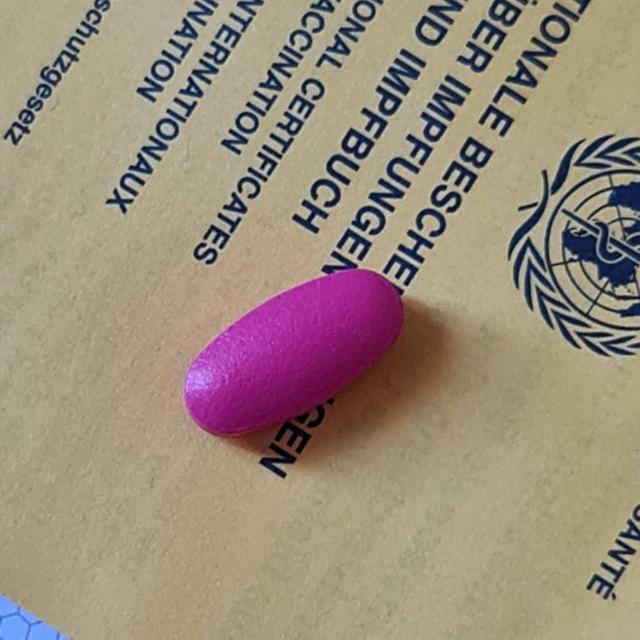pill: (186, 270, 402, 438)
